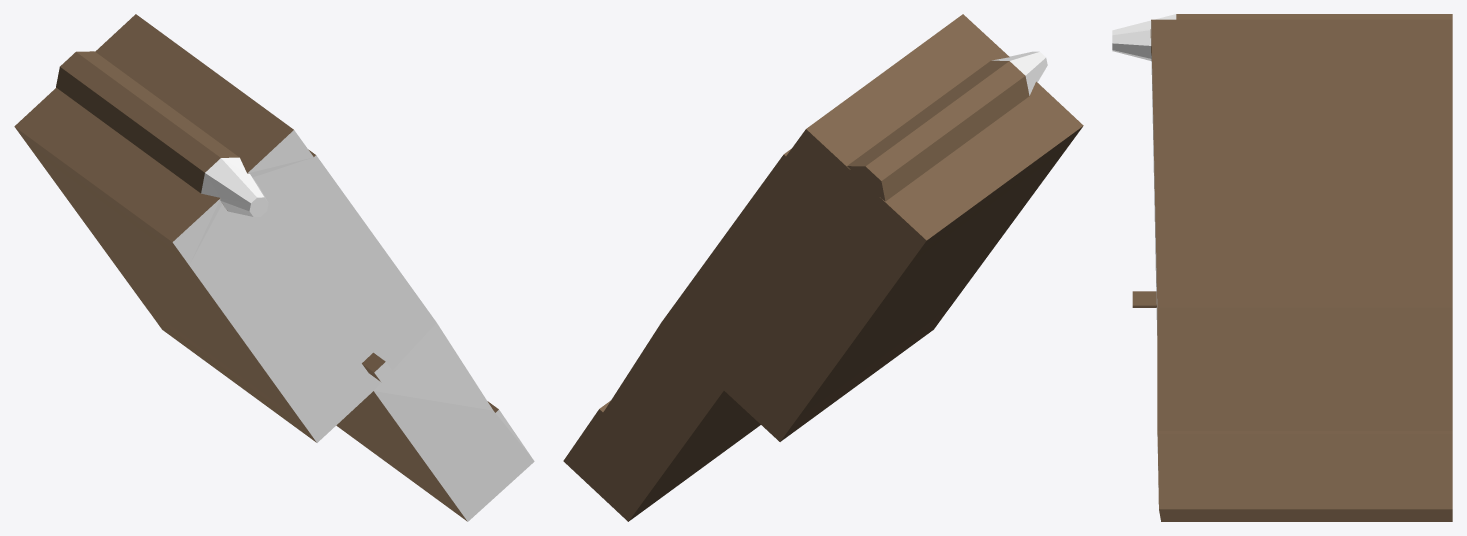
3 renders of one model, left to right at view 1: azimuth 30°, elevation 25°; view 2: azimuth 150°, elevation 25°; view 3: azimuth 270°, elevation 25°, orthographic. The views are drawn at different scales.
Parts seen in each view (by area): view 1: City_2316712; view 2: City_2316712; view 3: City_2316712.
Boxes of the visible parts, bbox=[...] form: City_2316712: bbox=[14, 14, 534, 521]; City_2316712: bbox=[563, 14, 1083, 521]; City_2316712: bbox=[1112, 14, 1452, 521].
Bounding box in the file's own units: 1931 × 2215 × 1631.
